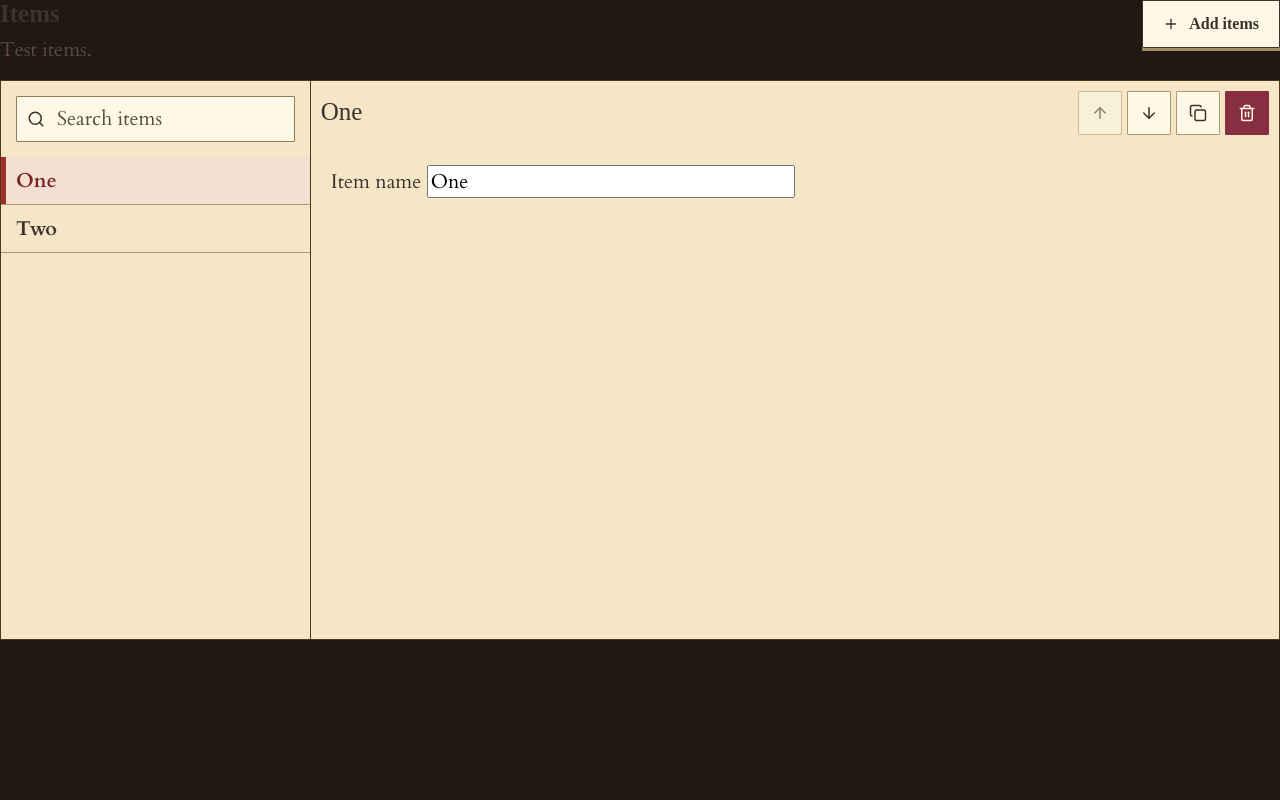
it: CollectionEditor › blocks deletion and names incoming references
Click the button named "Delete One". click: [1247, 113]
box: [1225,91,1269,135]
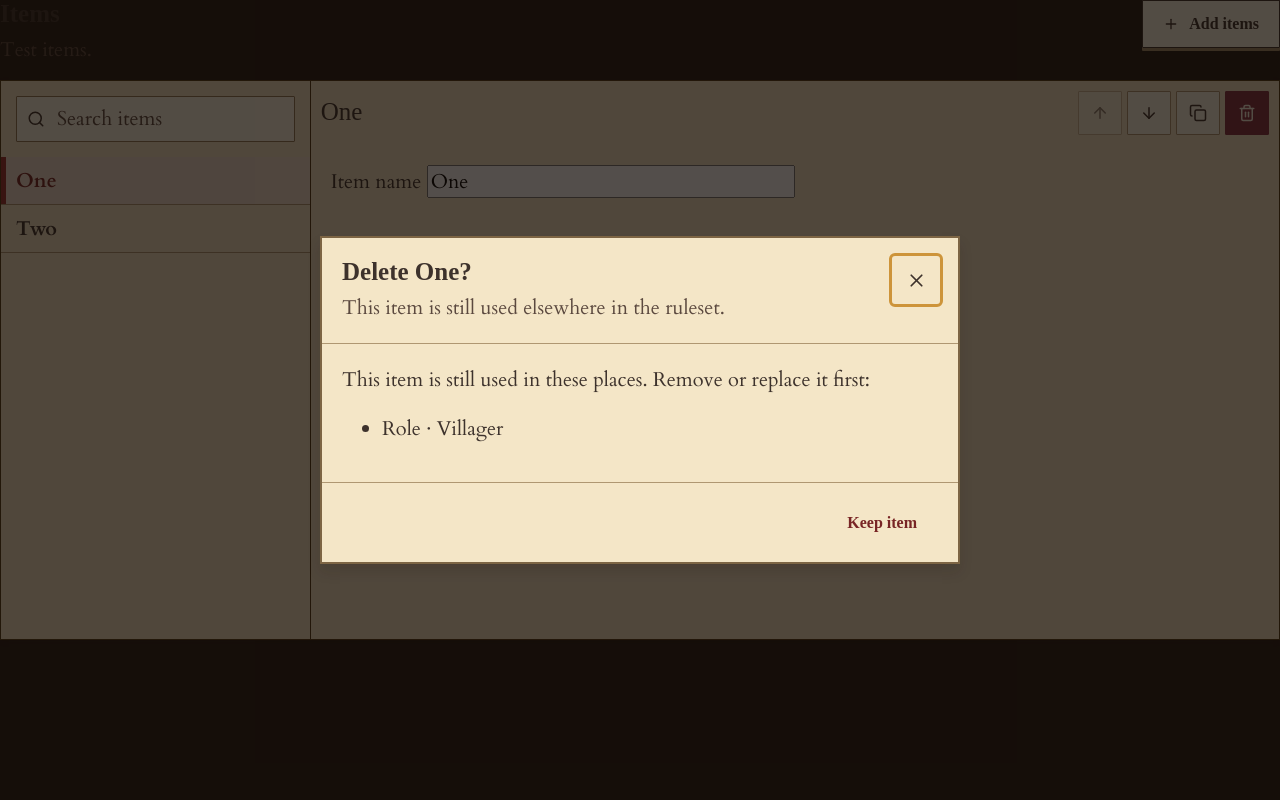
Now the list item "Role · Villager" is shown, box [382,415,503,442]
